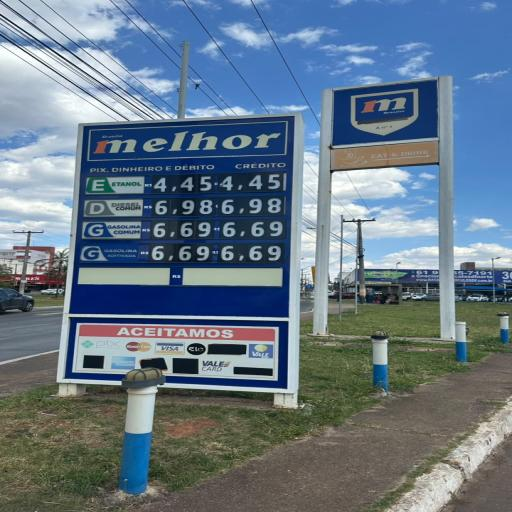ETANOL: (83, 176, 145, 194)
GASOLINA AD: (77, 243, 144, 264)
GASOLINA C: (79, 219, 143, 241)
S500: (80, 198, 145, 217)
placa: (66, 126, 294, 314)
preco: (149, 221, 214, 240), (150, 243, 211, 263), (155, 197, 215, 217), (149, 175, 212, 194)
